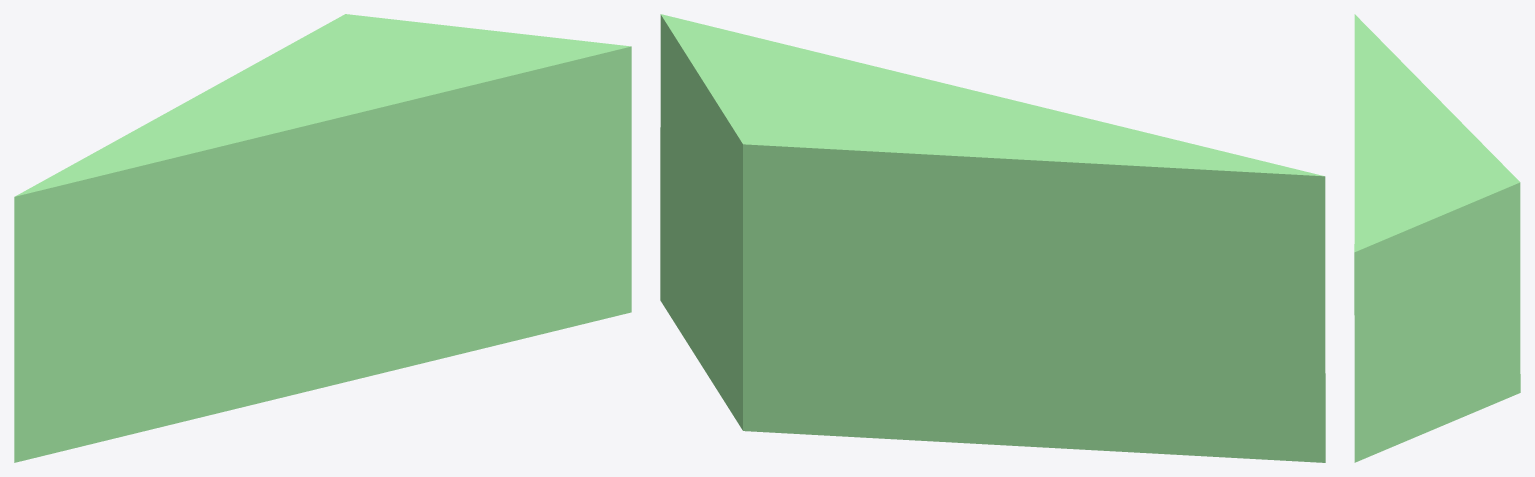
File: palle_scrotali_buone_Lp1_respondable_PSM2_coll_3.dae
3 renders of one model, left to right at view 1: azimuth 30°, elevation 25°; view 2: azimuth 150°, elevation 25°; view 3: azimuth 270°, elevation 25°, orthographic. The views are drawn at different scales.
Visible parts, largest first — view 1: Node_000002334E246040; view 2: Node_000002334E246040; view 3: Node_000002334E246040.
Part boxes in pixels (bbox=[...]): Node_000002334E246040: bbox=[14, 14, 631, 462]; Node_000002334E246040: bbox=[660, 14, 1325, 462]; Node_000002334E246040: bbox=[1354, 14, 1520, 462].
Size of the model in its own units: 0.017 by 0.007 by 0.005.
